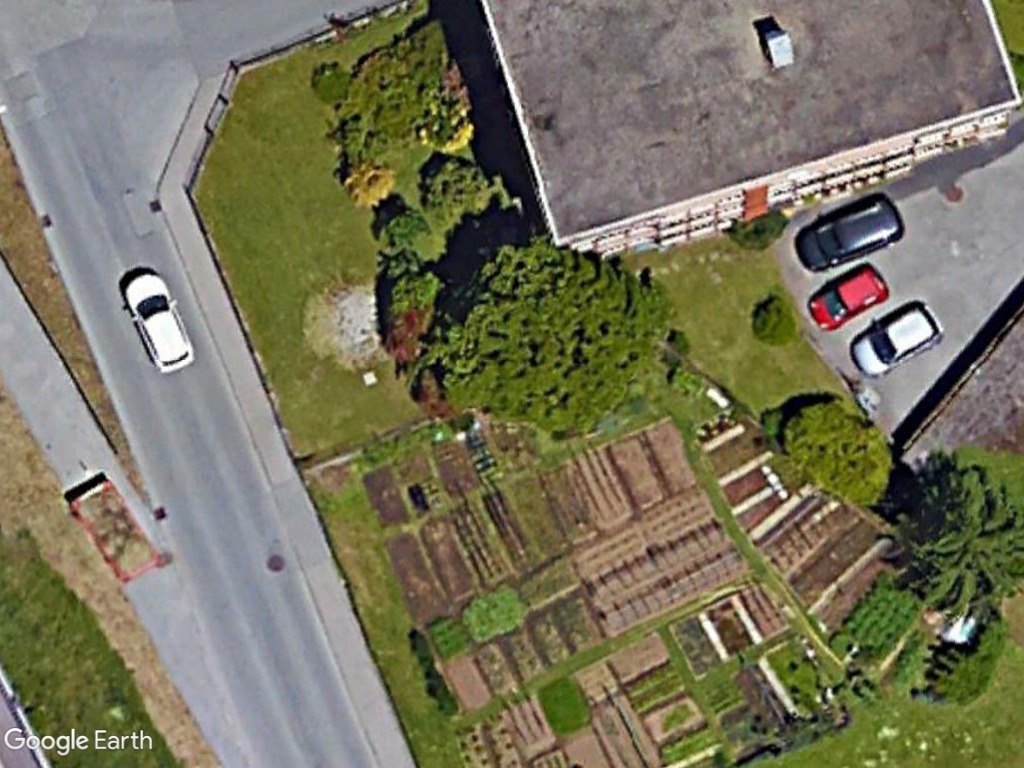car: (118, 269, 197, 378), (795, 197, 909, 272), (849, 301, 945, 378), (804, 265, 891, 327)
